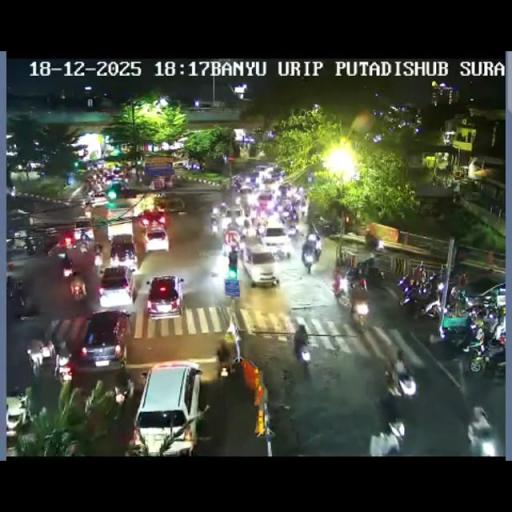Car: (132, 360, 203, 454), (75, 308, 132, 370), (145, 274, 185, 320), (98, 265, 136, 308), (241, 244, 278, 286), (261, 220, 292, 258), (26, 338, 55, 376), (48, 238, 82, 269), (108, 235, 137, 269), (6, 392, 28, 436), (143, 225, 170, 253), (151, 194, 185, 213), (139, 208, 167, 229), (222, 206, 245, 230), (73, 217, 94, 243), (222, 230, 242, 256), (314, 215, 337, 236), (257, 192, 274, 210), (254, 164, 272, 178), (262, 175, 278, 188), (172, 160, 189, 169)
Motorcycle: (370, 389, 408, 454), (265, 389, 296, 451), (399, 271, 440, 317), (466, 330, 504, 375), (440, 314, 478, 352), (466, 407, 496, 455), (386, 364, 416, 399), (348, 281, 370, 323), (112, 370, 134, 403), (54, 346, 74, 382), (294, 338, 311, 377), (332, 270, 350, 306), (448, 283, 468, 313), (462, 300, 489, 322), (124, 430, 145, 457), (15, 297, 40, 319), (280, 366, 298, 396), (366, 266, 386, 290), (6, 276, 24, 302), (216, 350, 231, 377), (490, 314, 504, 342), (70, 278, 86, 302), (302, 246, 316, 272), (346, 264, 362, 286), (242, 220, 256, 239), (286, 214, 298, 232), (24, 239, 37, 255), (209, 214, 219, 234), (94, 242, 103, 264), (368, 236, 381, 250), (139, 370, 148, 390), (210, 204, 221, 218), (242, 202, 251, 218), (299, 202, 308, 218), (256, 222, 266, 236), (219, 201, 227, 216), (86, 190, 95, 203), (234, 179, 242, 193), (314, 244, 320, 262), (234, 194, 242, 206)
